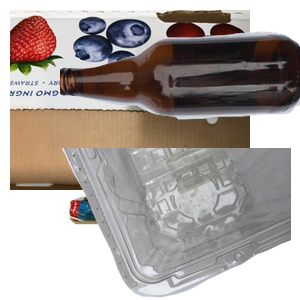cardboard: (10, 10, 250, 190)
glass: (60, 29, 300, 141)
plastic: (60, 148, 300, 300)
trash: (66, 173, 272, 300)
